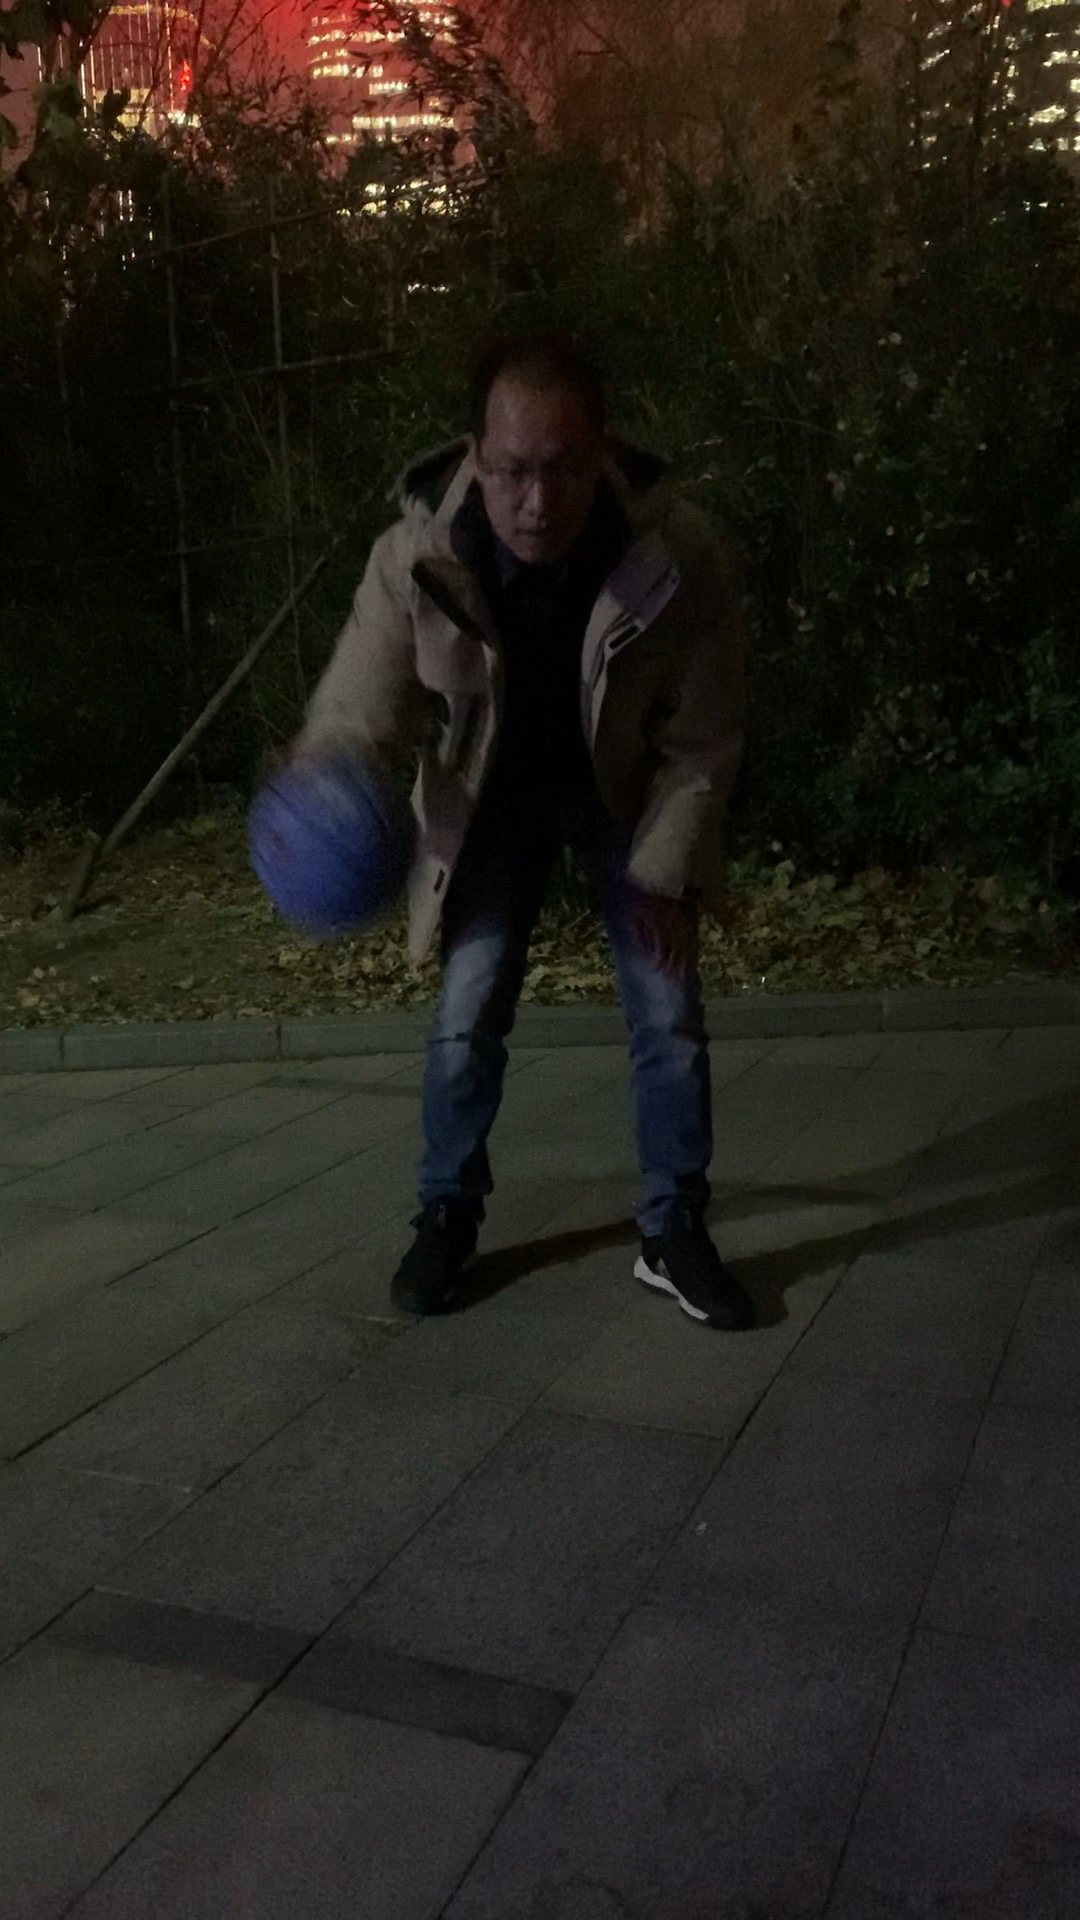ball: (248, 764, 422, 938)
